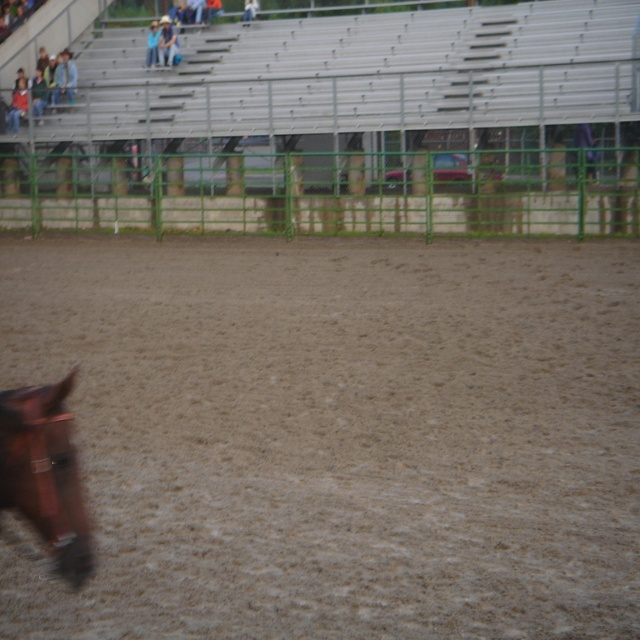Horse: (0, 364, 93, 593)
